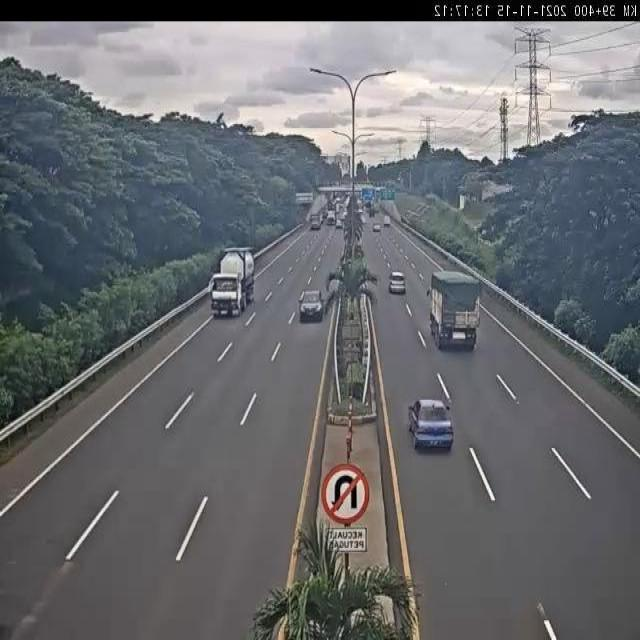Car: (409, 399, 454, 454), (298, 290, 324, 322), (389, 272, 405, 293)
Truck: (426, 270, 481, 350), (211, 245, 256, 319)
